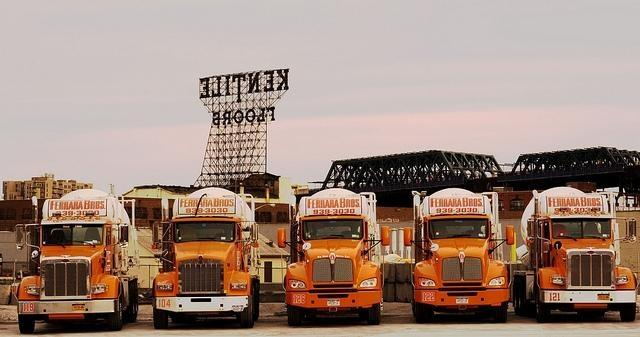truck: (15, 185, 140, 332), (509, 184, 637, 324), (149, 184, 261, 330), (274, 188, 390, 326), (413, 188, 512, 325)
